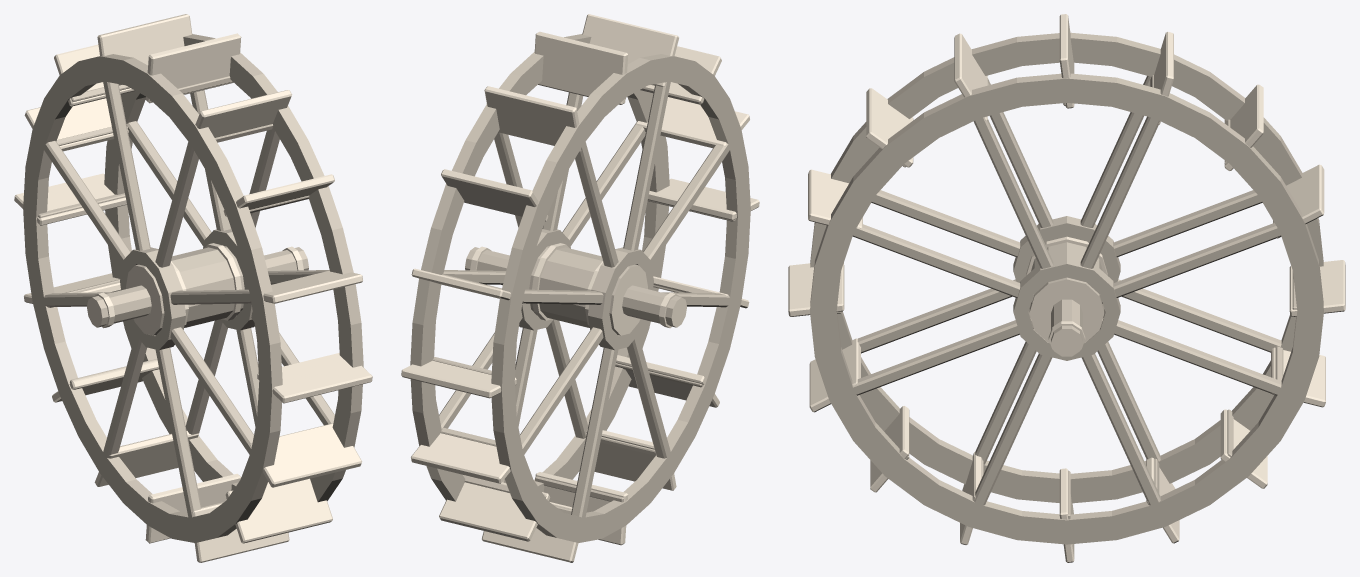
Rendered from SM_VK_WaterWheel.fbx.
The picture shows the model from 3 angles, left to right: view 1: azimuth 30°, elevation 25°; view 2: azimuth 150°, elevation 25°; view 3: azimuth 270°, elevation 25°; orthographic projection. The views are drawn at different scales.
Visible parts, largest first — view 1: SM_VK_WaterWheel.001; view 2: SM_VK_WaterWheel.001; view 3: SM_VK_WaterWheel.001.
Part boxes in pixels (box(x1,y1,x2,y2)): SM_VK_WaterWheel.001: box(14, 14, 372, 562); SM_VK_WaterWheel.001: box(401, 14, 759, 562); SM_VK_WaterWheel.001: box(788, 14, 1345, 562).
Size of the model in its own units: 2.3 by 5.2 by 5.2.
